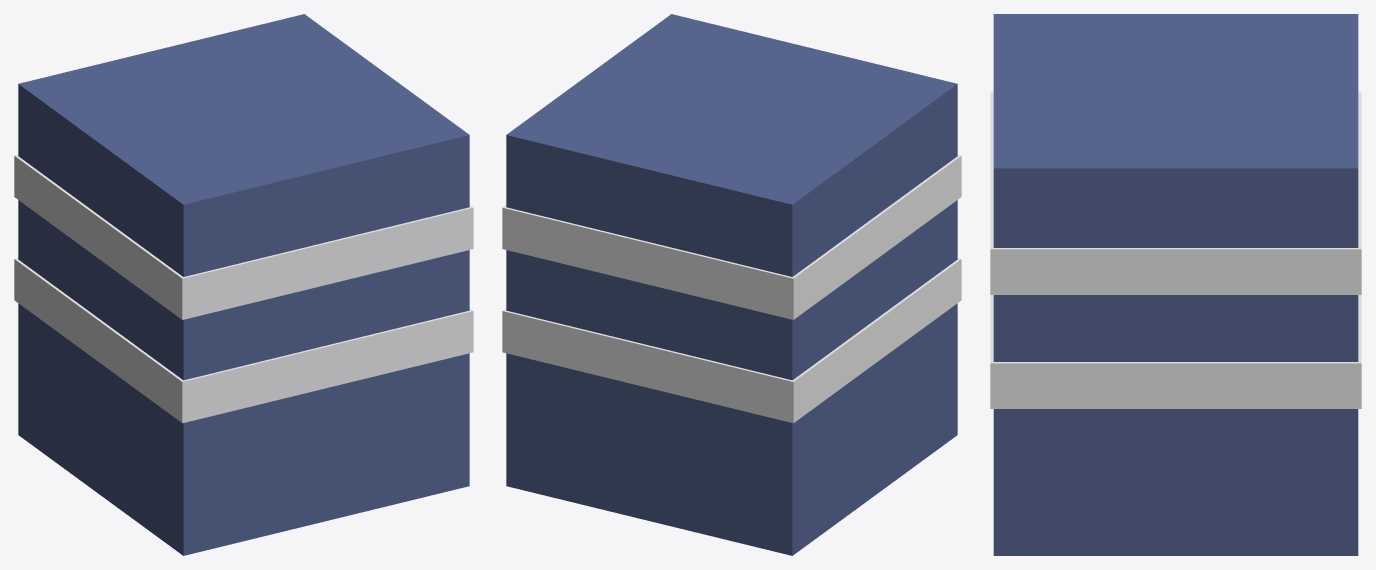
File: marinheiro_listrado_manga_sup.glb
The picture shows the model from 3 angles, left to right: view 1: azimuth 30°, elevation 25°; view 2: azimuth 150°, elevation 25°; view 3: azimuth 270°, elevation 25°; orthographic projection. The views are drawn at different scales.
Visible parts, largest first — view 1: marinheiro_listrado_manga_sup; view 2: marinheiro_listrado_manga_sup; view 3: marinheiro_listrado_manga_sup.
Part boxes in pixels (<box>): marinheiro_listrado_manga_sup: <box>14,14,473,555</box>; marinheiro_listrado_manga_sup: <box>502,14,961,555</box>; marinheiro_listrado_manga_sup: <box>990,14,1361,555</box>.
Bounding box in the file's own units: 0.295 × 0.34 × 0.295.
